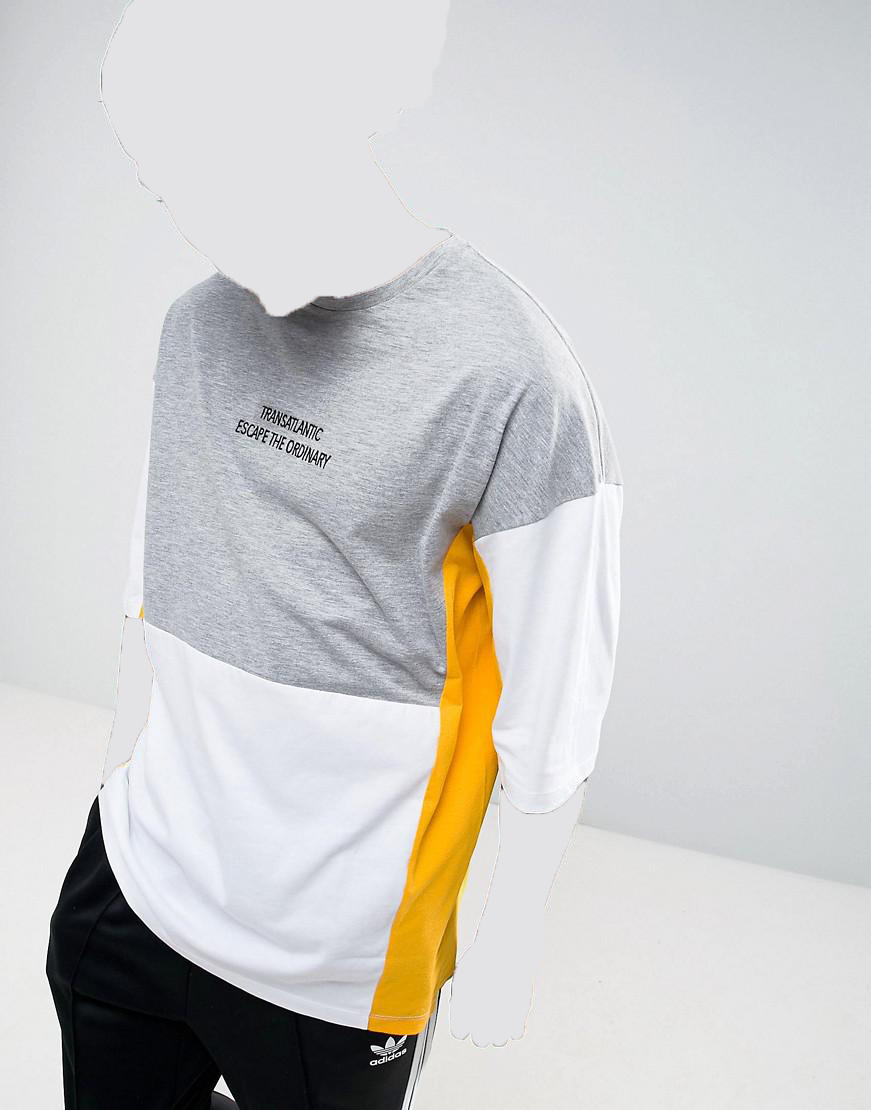teeshirt: (95, 232, 624, 1039)
